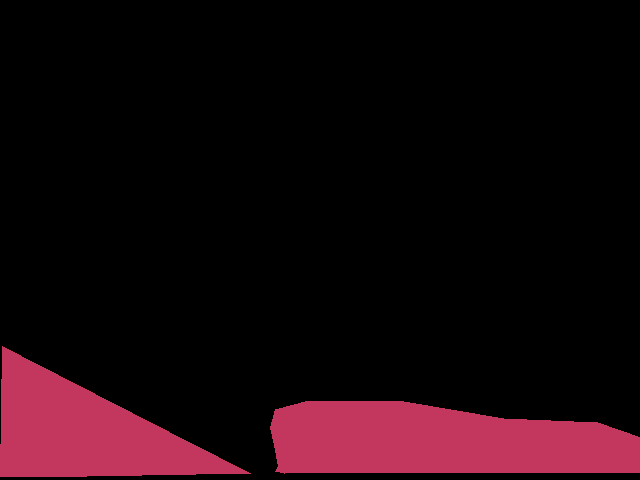Airplane: (0, 346, 640, 476)
